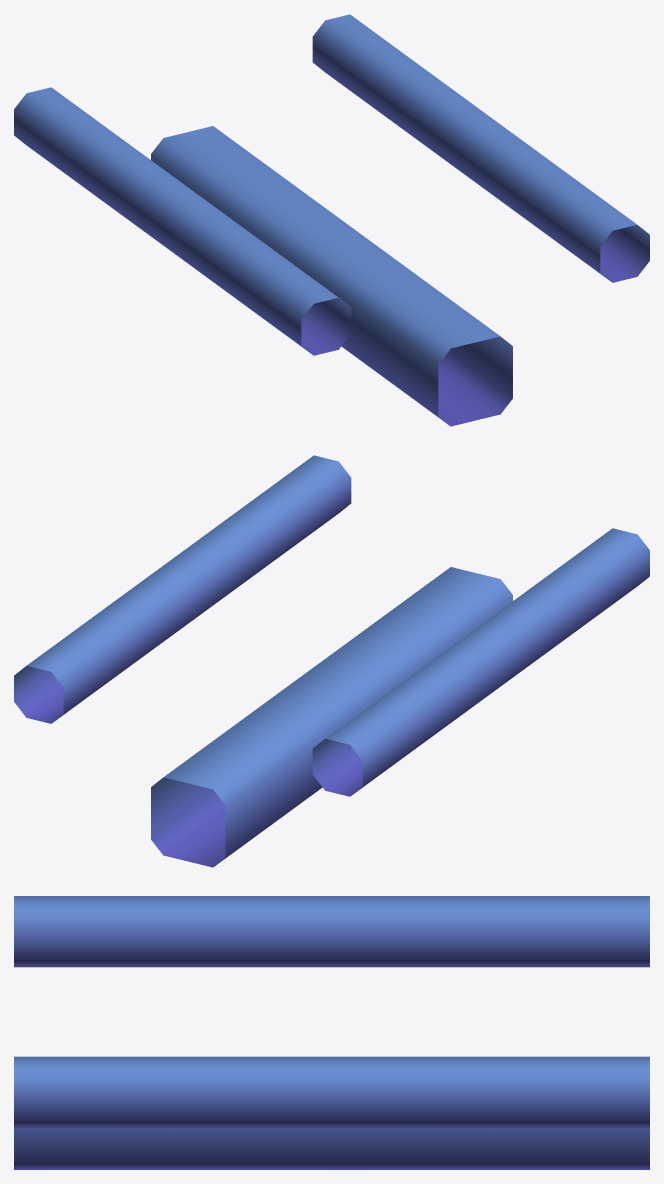
The model's file is coaster-steel-track.glb.
3 views of the same model, one above another, from view 1: azimuth 30°, elevation 25°; view 2: azimuth 150°, elevation 25°; view 3: azimuth 270°, elevation 25° (orthographic). The views are drawn at different scales.
Parts seen in each view (by area): view 1: coaster-steel-track; view 2: coaster-steel-track; view 3: coaster-steel-track.
Boxes of the visible parts, x1,y1,x2,y2 form: coaster-steel-track: [14, 14, 649, 426]; coaster-steel-track: [14, 455, 649, 867]; coaster-steel-track: [14, 896, 649, 1169].
Size of the model in its own units: 0.7 by 0.3 by 1.
1 material, 1 textured.
